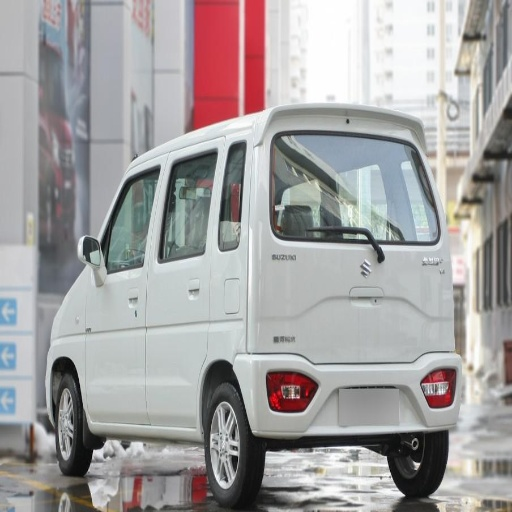back_bumper: (252, 351, 461, 438)
back_glass: (292, 131, 410, 222)
trunk: (210, 235, 468, 406)
